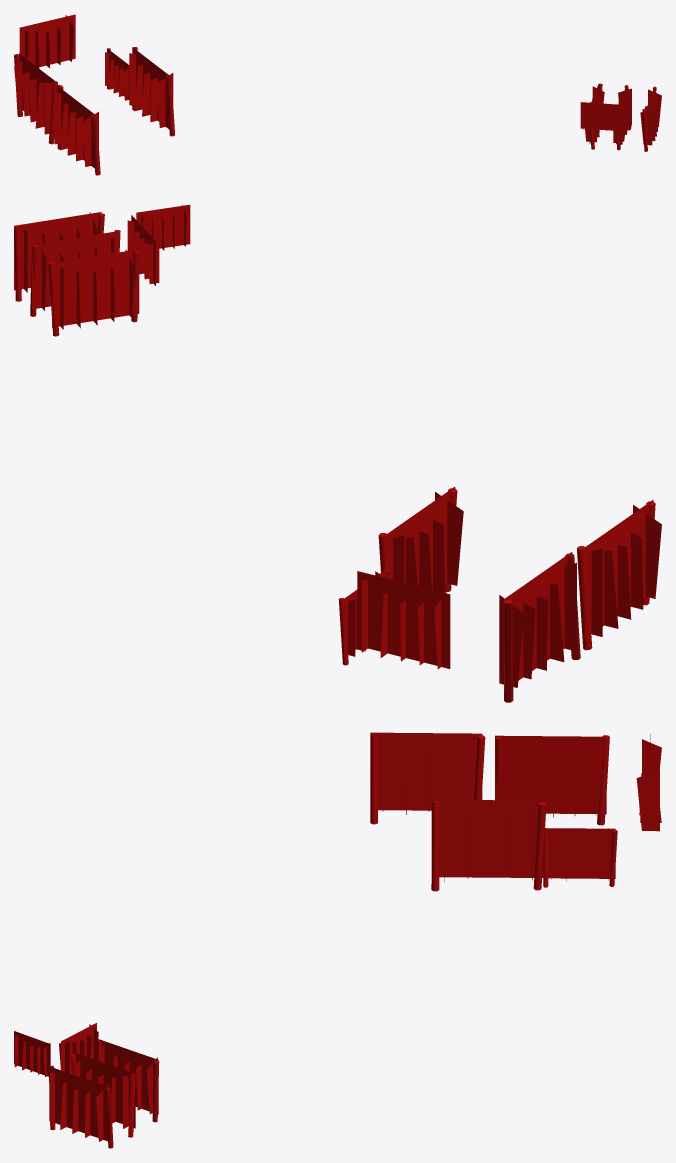
File: tobacco_leaves.glb
The picture shows the model from 3 angles, top to bottom: view 1: azimuth 30°, elevation 25°; view 2: azimuth 150°, elevation 25°; view 3: azimuth 270°, elevation 25°; orthographic projection. The views are drawn at different scales.
Parts seen in each view (by area): view 1: MODEL_tobacco_leaves; view 2: MODEL_tobacco_leaves; view 3: MODEL_tobacco_leaves.
Part boxes in pixels (x1,y1,x2,y2): MODEL_tobacco_leaves: (14,14,661,175); MODEL_tobacco_leaves: (14,204,661,702); MODEL_tobacco_leaves: (14,732,661,1148).
Bounding box in the file's own units: 3.87 × 0.559 × 3.16.
